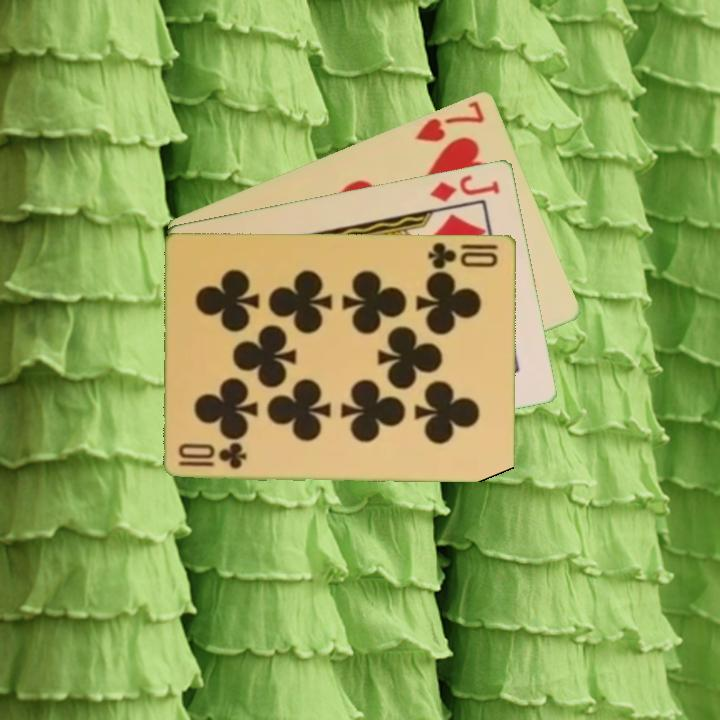10c: (425, 239, 501, 272), (176, 441, 250, 471)
7h: (412, 97, 488, 145)
Jd: (426, 170, 503, 205)
